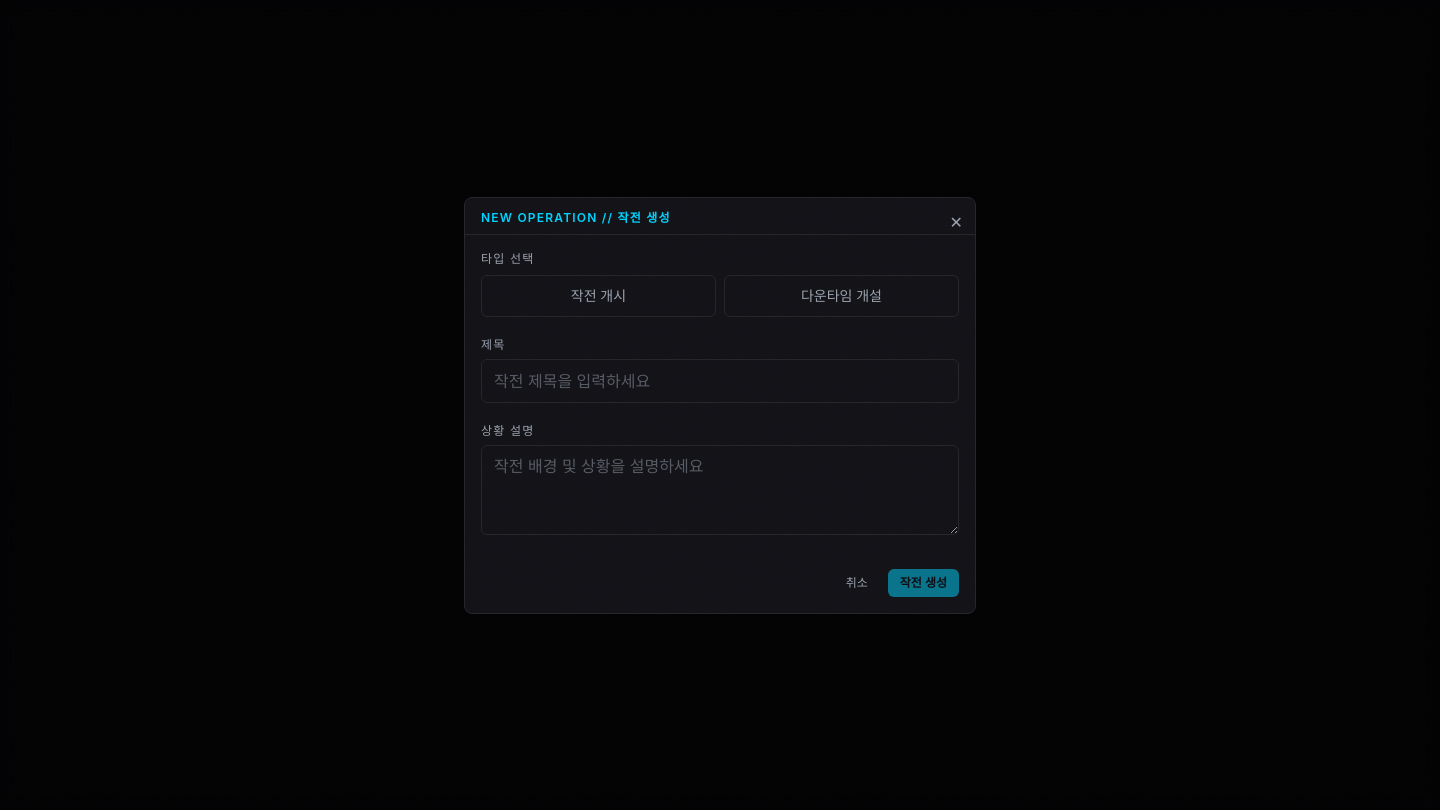
Test: CreateOperationModal › API 실패 시 에러 메시지를 표시한다
Click the button "작전 개시". click: coordinates (598, 296)
box: [481,274,716,316]
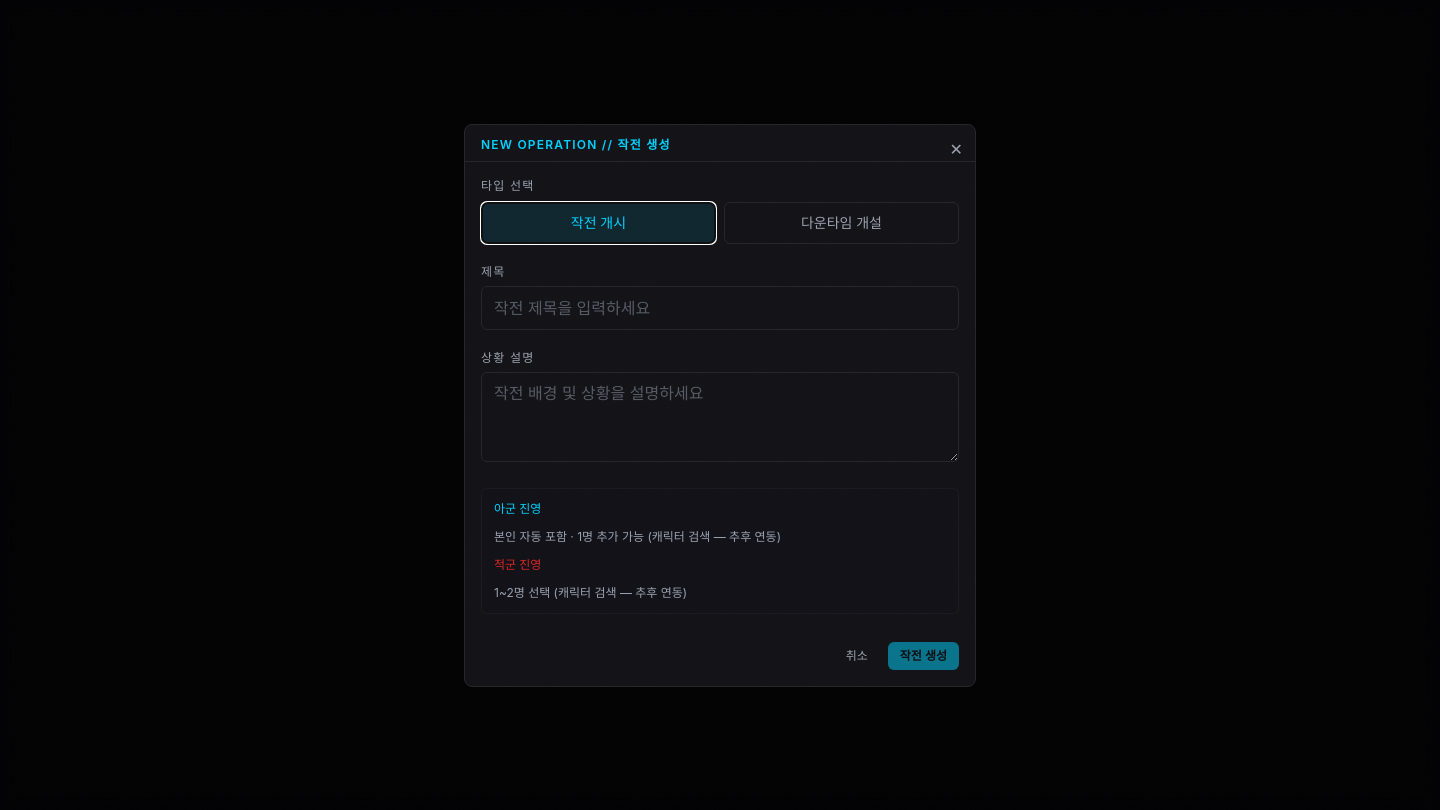
Type "테스트 작전" into the field labelled "제목". click: coordinates (720, 308)
box: [481,286,959,330]
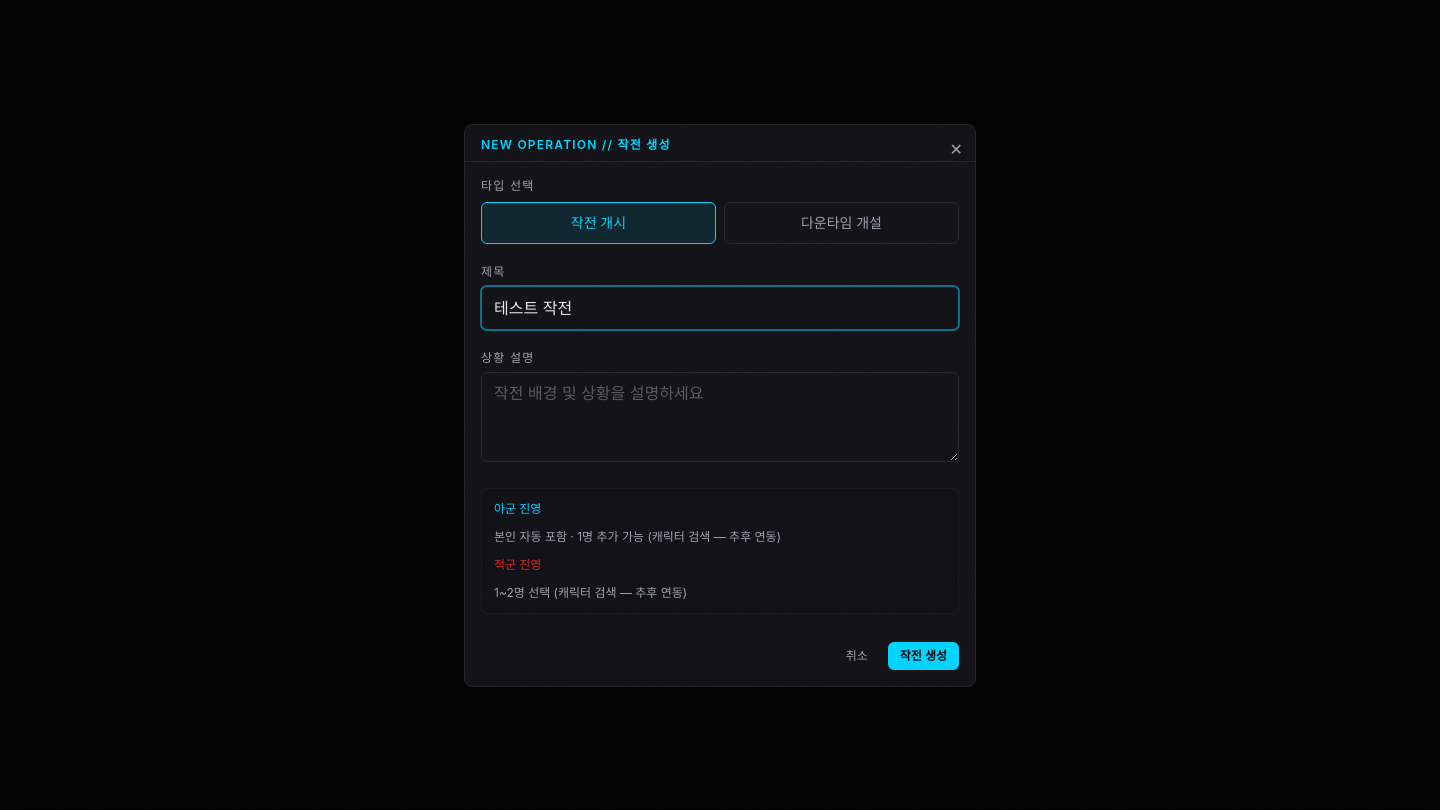
Click the button "작전 생성". click: coordinates (923, 656)
box: [888,642,959,670]
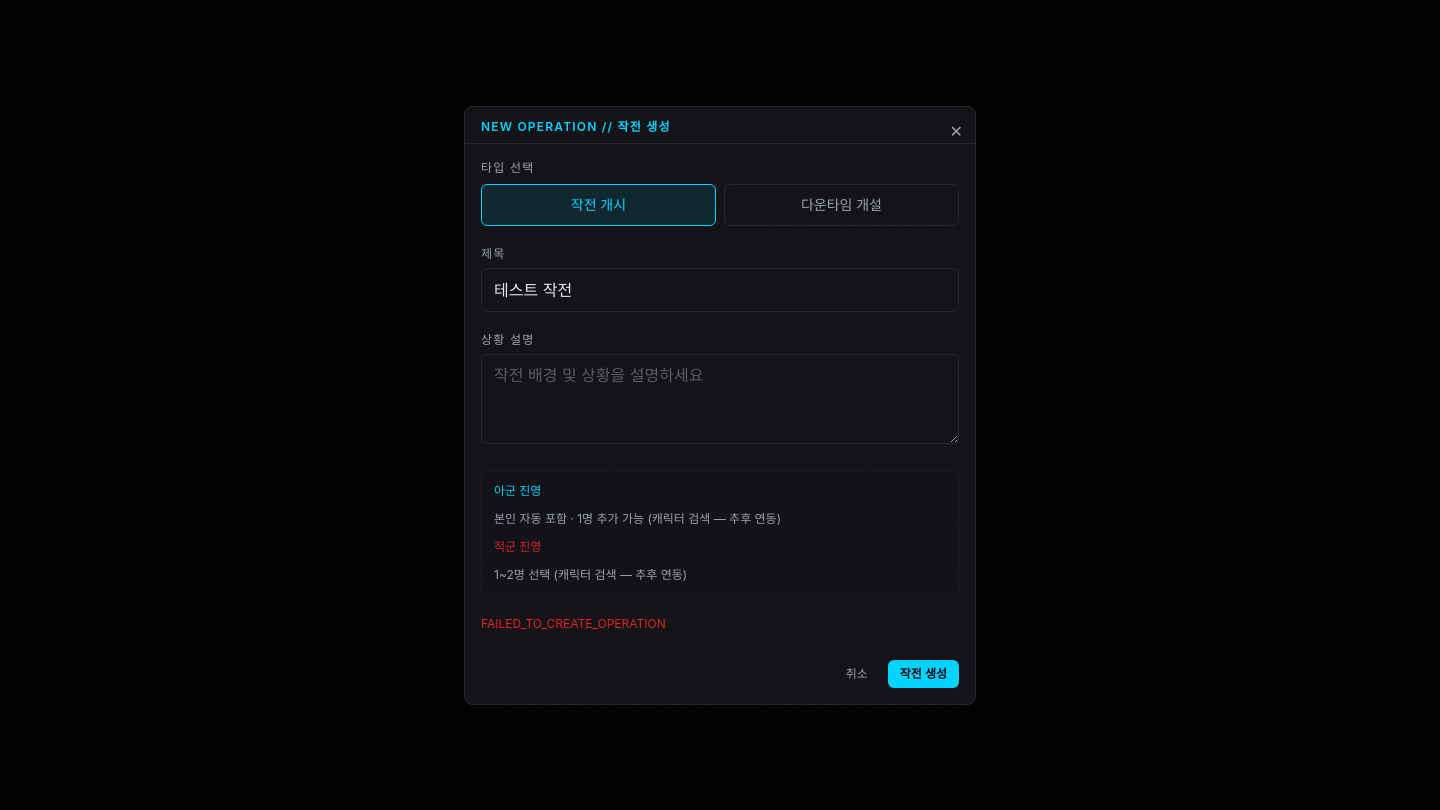
Check: the text "FAILED_TO_CREATE_OPERATION" is shown, box [481,616,666,630]
